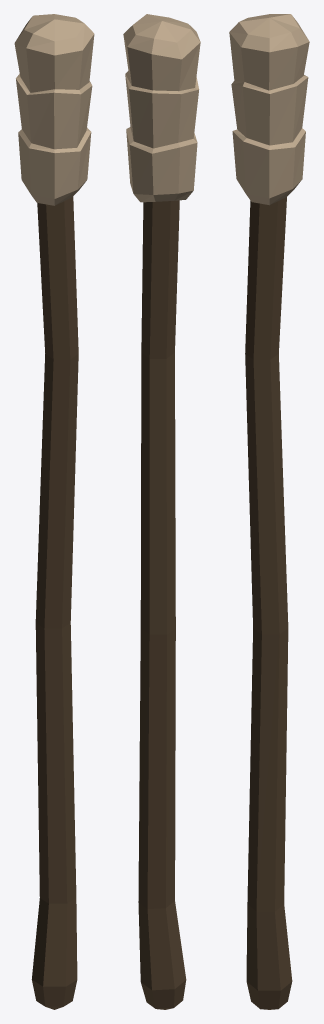
File: SM_Prop_Cannon_Pole_01.glb
3 renders of one model, left to right at view 1: azimuth 90°, elevation 25°; view 2: azimuth 210°, elevation 25°; view 3: azimuth 270°, elevation 25°, orthographic.
Parts seen in each view (by area): view 1: SM_Prop_Cannon_Pole_01_part00; view 2: SM_Prop_Cannon_Pole_01_part00; view 3: SM_Prop_Cannon_Pole_01_part00.
Part boxes in pixels (x1=…): SM_Prop_Cannon_Pole_01_part00: x1=14, y1=14, x2=94, y2=1009; SM_Prop_Cannon_Pole_01_part00: x1=123, y1=14, x2=200, y2=1009; SM_Prop_Cannon_Pole_01_part00: x1=229, y1=14, x2=309, y2=1009.
Bounding box in the file's own units: 0.1739 × 2.37 × 0.1739.
1 material, 1 textured.
